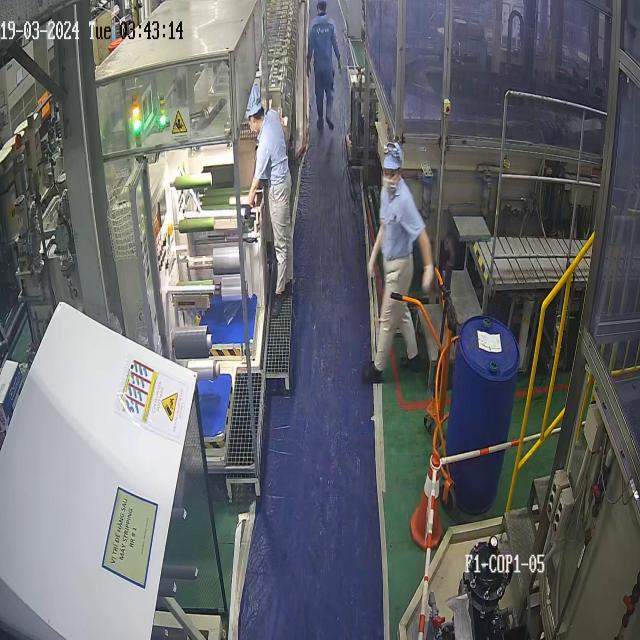Person: (362, 141, 436, 384), (244, 83, 294, 297), (306, 0, 342, 131)
